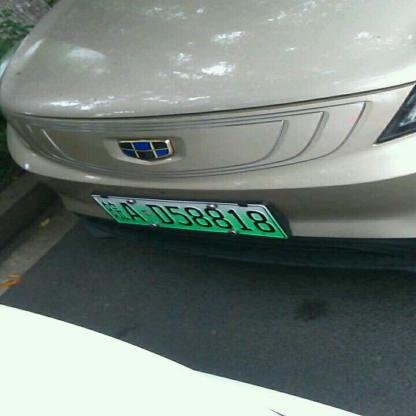lp: (90, 194, 287, 237)
